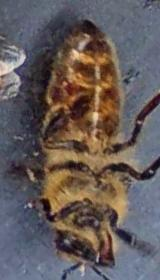varroa_mite: (55, 74, 80, 96)
